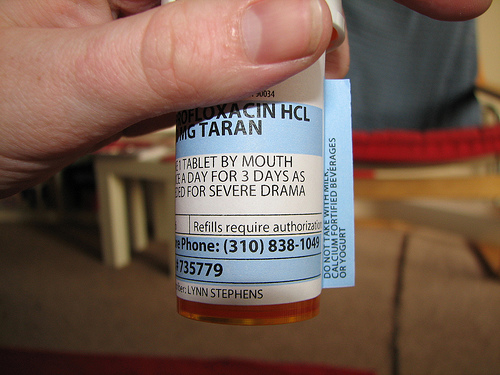pill bottle: (174, 3, 333, 323)
